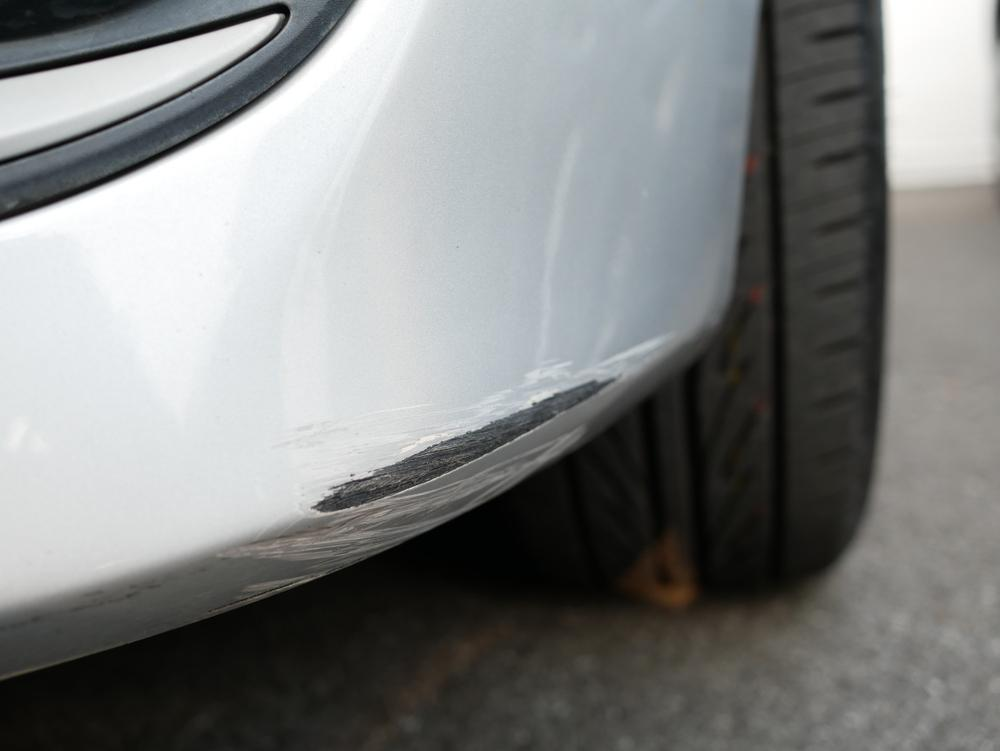scratch: (221, 320, 698, 600)
